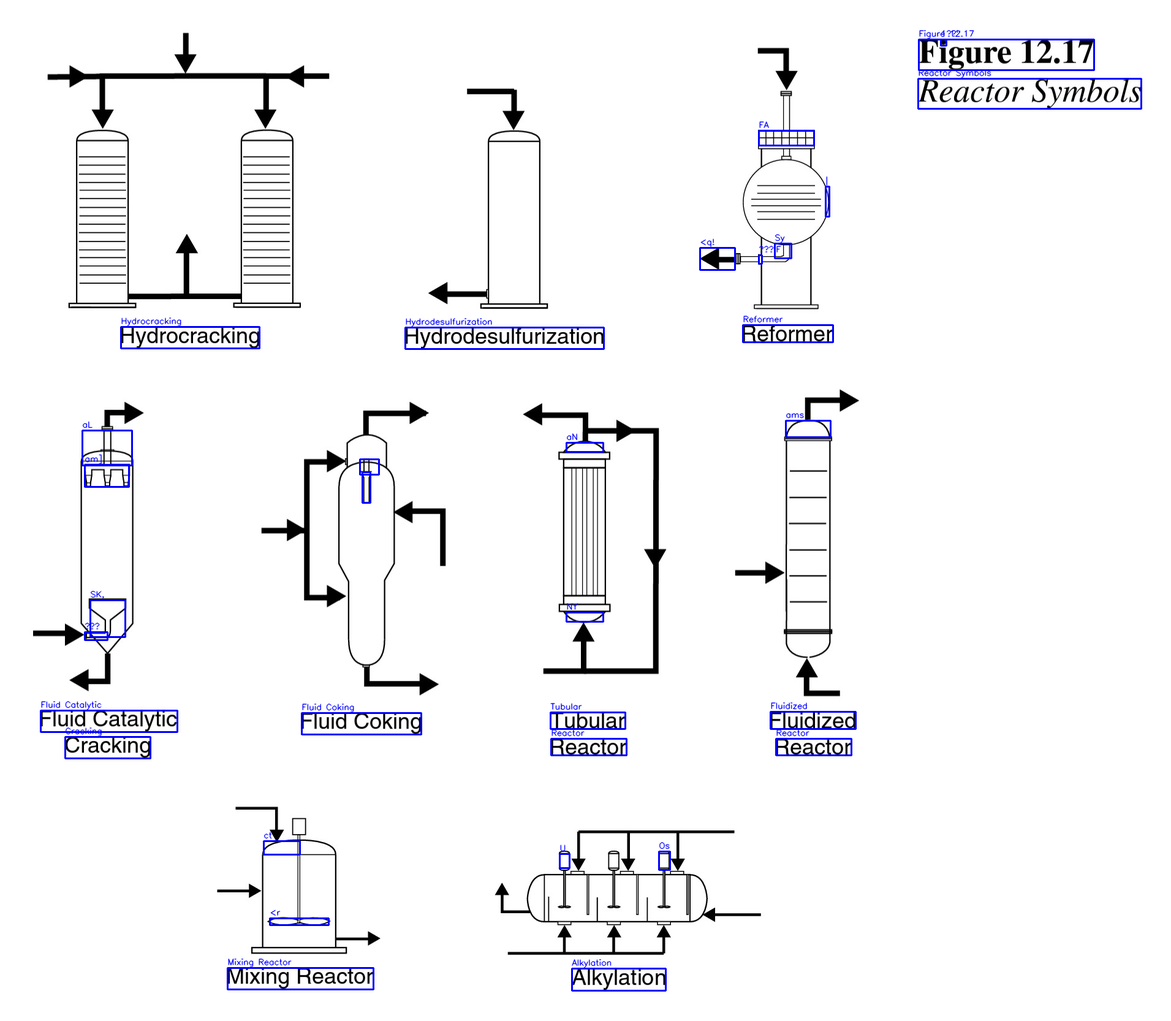Reator: (728, 85, 835, 312), (332, 430, 398, 672), (524, 846, 710, 929), (75, 421, 138, 660), (246, 814, 350, 958), (63, 124, 142, 312), (229, 128, 305, 313), (476, 128, 551, 315), (780, 416, 836, 662), (554, 439, 614, 628)
